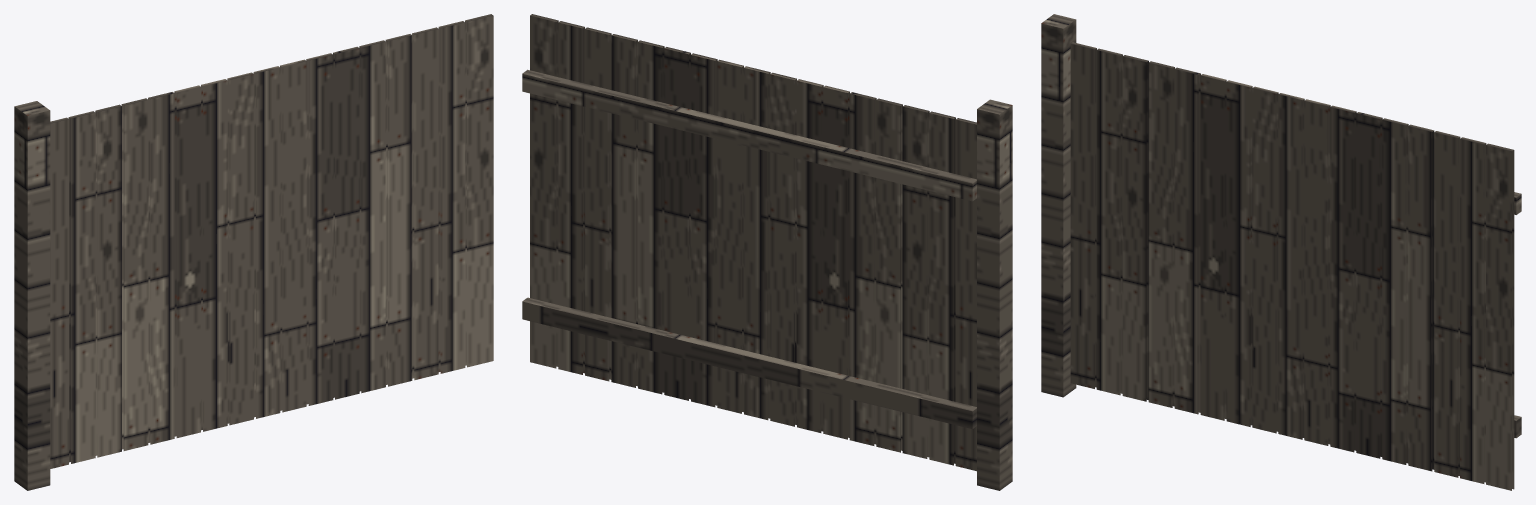
Rendered from FN_Privacy_2.5m.obj.
3 views of the same model, side by side, from view 1: azimuth 30°, elevation 25°; view 2: azimuth 150°, elevation 25°; view 3: azimuth 330°, elevation 25° (orthographic). The views are drawn at different scales.
Parts seen in each view (by area): view 1: FN_Privacy_2.5m; view 2: FN_Privacy_2.5m; view 3: FN_Privacy_2.5m.
Boxes of the visible parts, x1,y1,x2,y2 form: FN_Privacy_2.5m: [14, 14, 493, 490]; FN_Privacy_2.5m: [522, 14, 1012, 490]; FN_Privacy_2.5m: [1041, 14, 1521, 490].
Bounding box in the file's own units: 2.5 × 1.9 × 0.16.
1 material, 1 textured.
